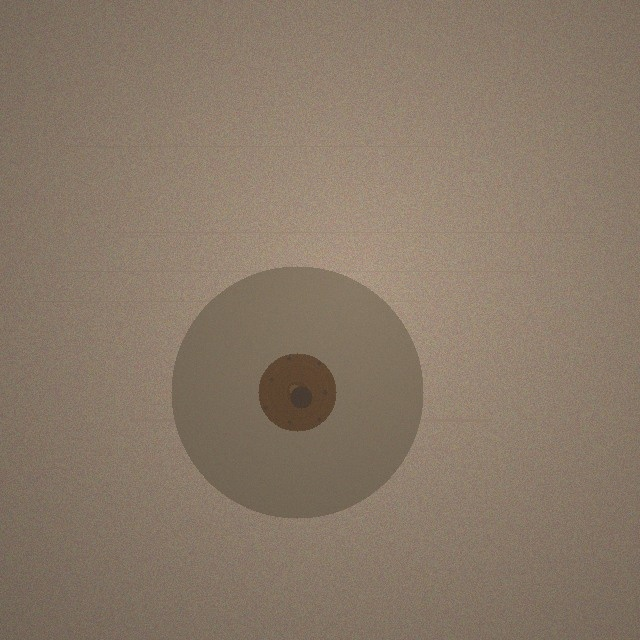cold_weld: (171, 266, 423, 518)
